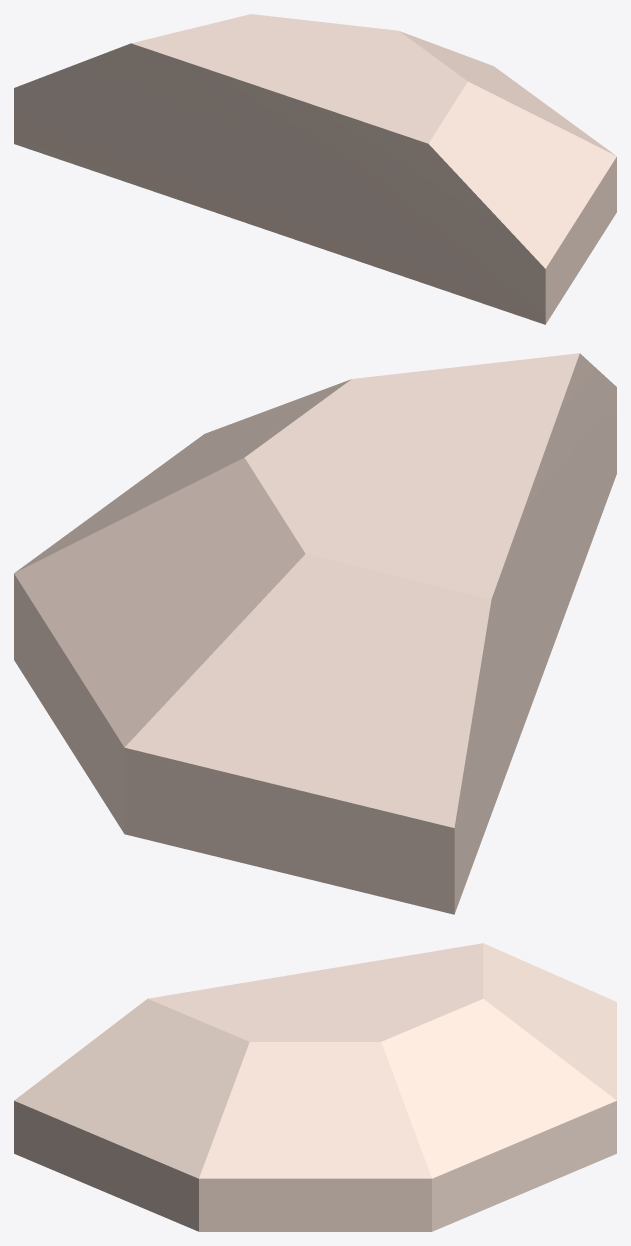
Rendered from PROP_Vase_4.fbx.
3 views of the same model, one above another, from view 1: azimuth 30°, elevation 25°; view 2: azimuth 150°, elevation 25°; view 3: azimuth 270°, elevation 25° (orthographic). The views are drawn at different scales.
Visible parts, largest first — view 1: Vase_4; view 2: Vase_4; view 3: Vase_4.
Part boxes in pixels (left/top/right/bottom): Vase_4: left=14, top=14, right=616, bottom=324; Vase_4: left=14, top=353, right=616, bottom=914; Vase_4: left=14, top=943, right=616, bottom=1231.
Size of the model in its own units: 7.87 by 2.77 by 11.35.
